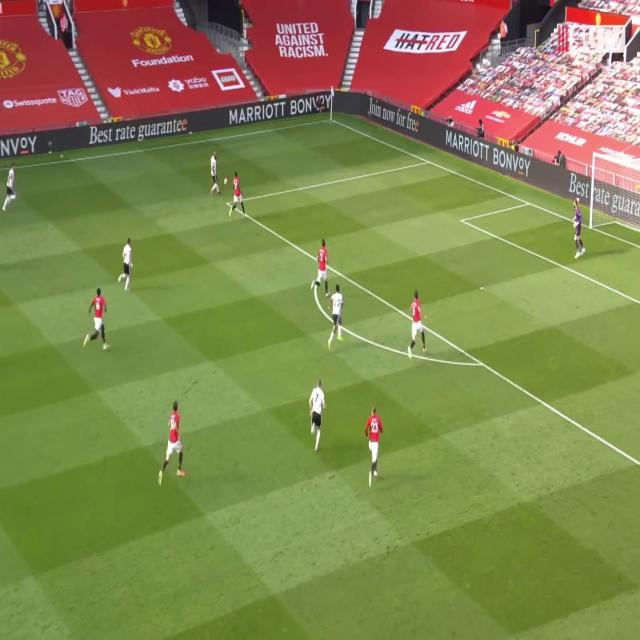Ball: (223, 172, 229, 191)
GoalKeeper: (573, 199, 585, 258)
TEAM 1: (157, 404, 185, 486), (87, 287, 109, 351), (366, 407, 384, 485), (408, 291, 426, 354), (314, 238, 327, 290), (230, 174, 246, 216)
TEAM 2: (309, 381, 326, 452), (326, 285, 345, 344), (122, 237, 135, 290), (4, 166, 18, 213), (209, 152, 221, 198)
